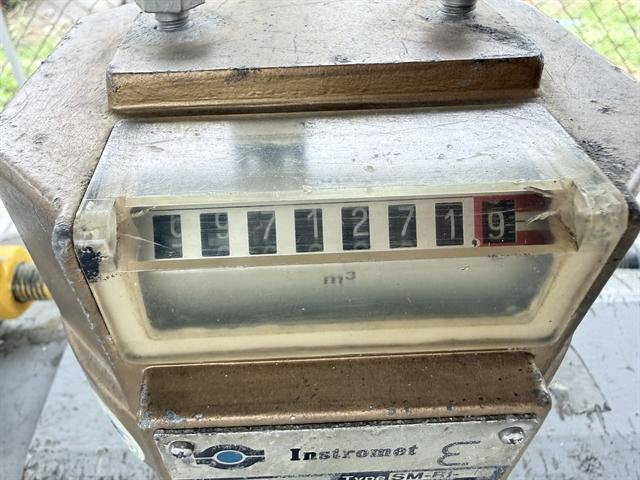analog_dial: (132, 191, 546, 263)
